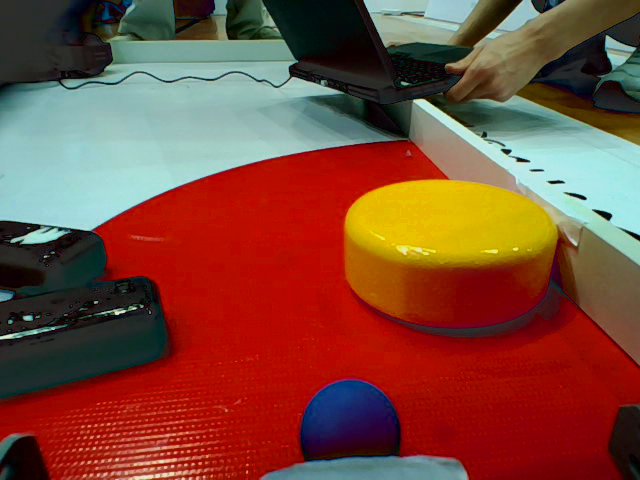black: (1, 283, 205, 393), (1, 212, 117, 294)
blue: (299, 374, 412, 473)
yellow: (332, 173, 567, 344)
